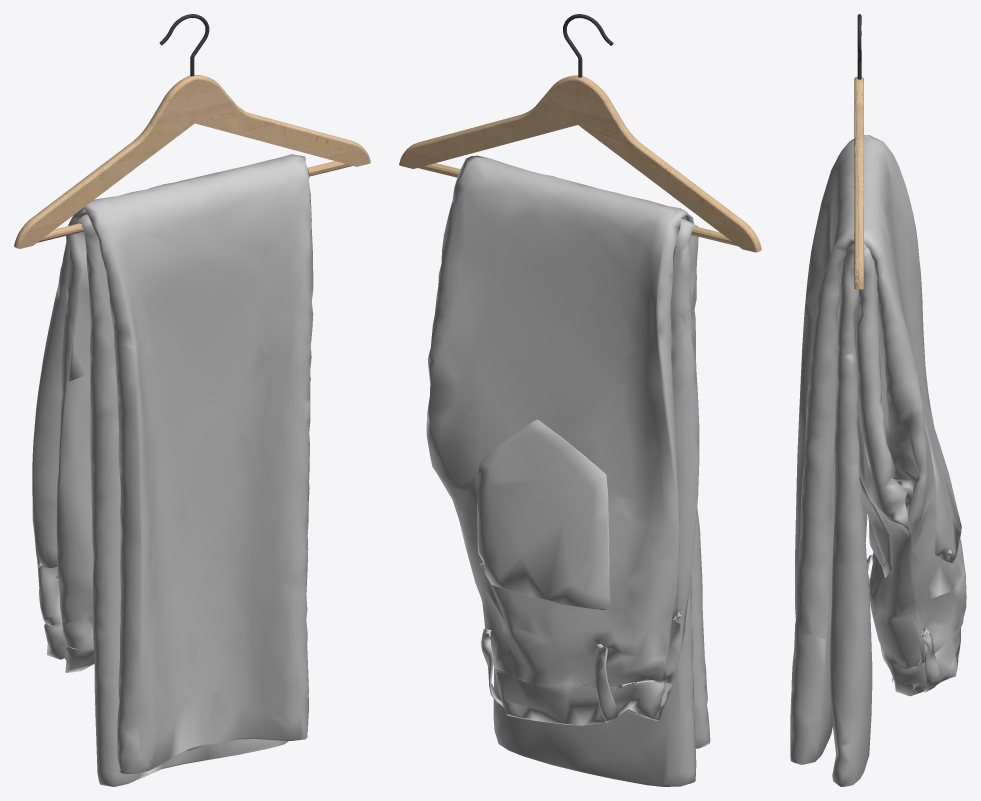
The model's file is Jeans.FBX.
3 renders of one model, left to right at view 1: azimuth 30°, elevation 25°; view 2: azimuth 150°, elevation 25°; view 3: azimuth 270°, elevation 25°, orthographic. The views are drawn at different scales.
Visible parts, largest first — view 1: Jeans, hanger; view 2: Jeans, hanger; view 3: Jeans, hanger.
Boxes of the visible parts, bbox=[...] form: Jeans: bbox=[32, 154, 313, 786]; hanger: bbox=[14, 14, 370, 248]; Jeans: bbox=[426, 155, 710, 786]; hanger: bbox=[399, 14, 761, 252]; Jeans: bbox=[790, 135, 966, 786]; hanger: bbox=[854, 14, 863, 289].
Size of the model in its own units: 37.96 by 75.81 by 16.63.
